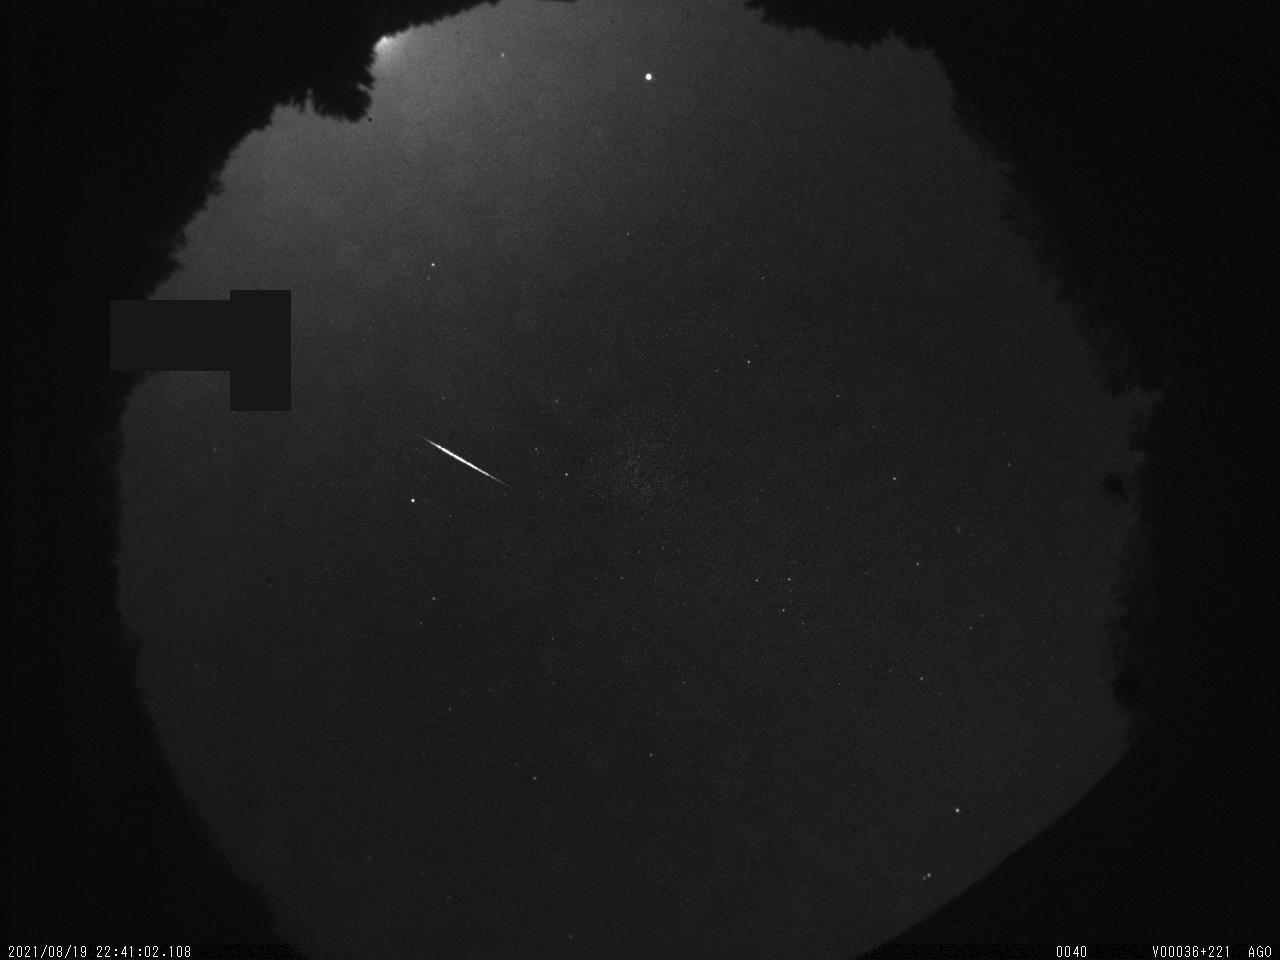meteor: (417, 426, 514, 490)
